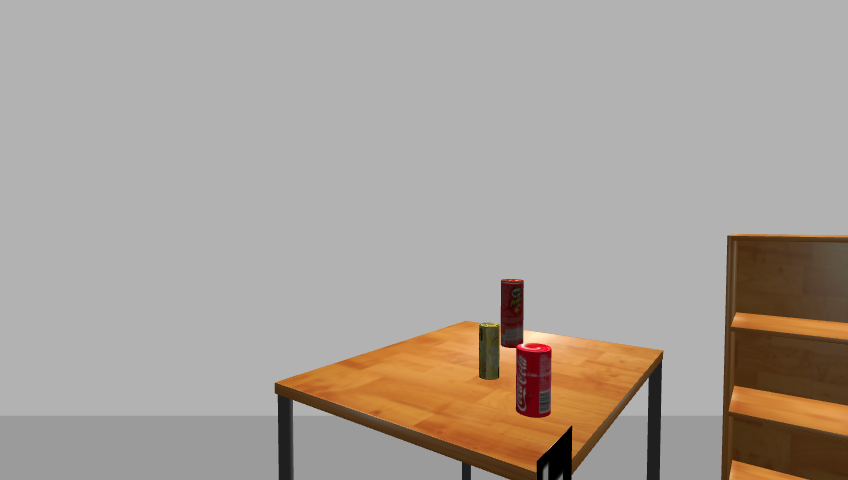aruco marker: (532, 427, 575, 480)
biscuits pack: (477, 322, 500, 381)
bookshelf: (718, 233, 848, 479)
coke can: (514, 344, 553, 418)
dinner table: (266, 323, 671, 479)
pringles can: (498, 277, 526, 351)
